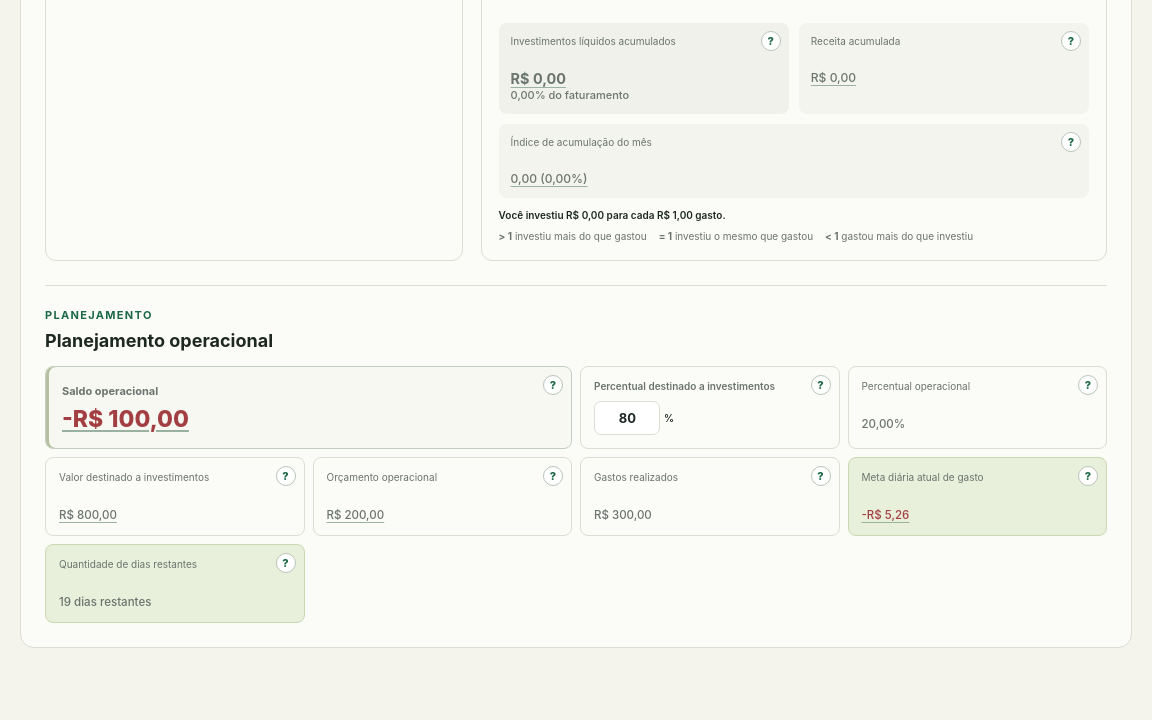
memória de cálculo operacional › preserva meta negativa, explica o déficit e apresenta dias e regra de dia útil
The image size is (1152, 720).
(page scrolled)
Click the button "-R$ 5,26": (885, 515) [858, 504, 913, 526]
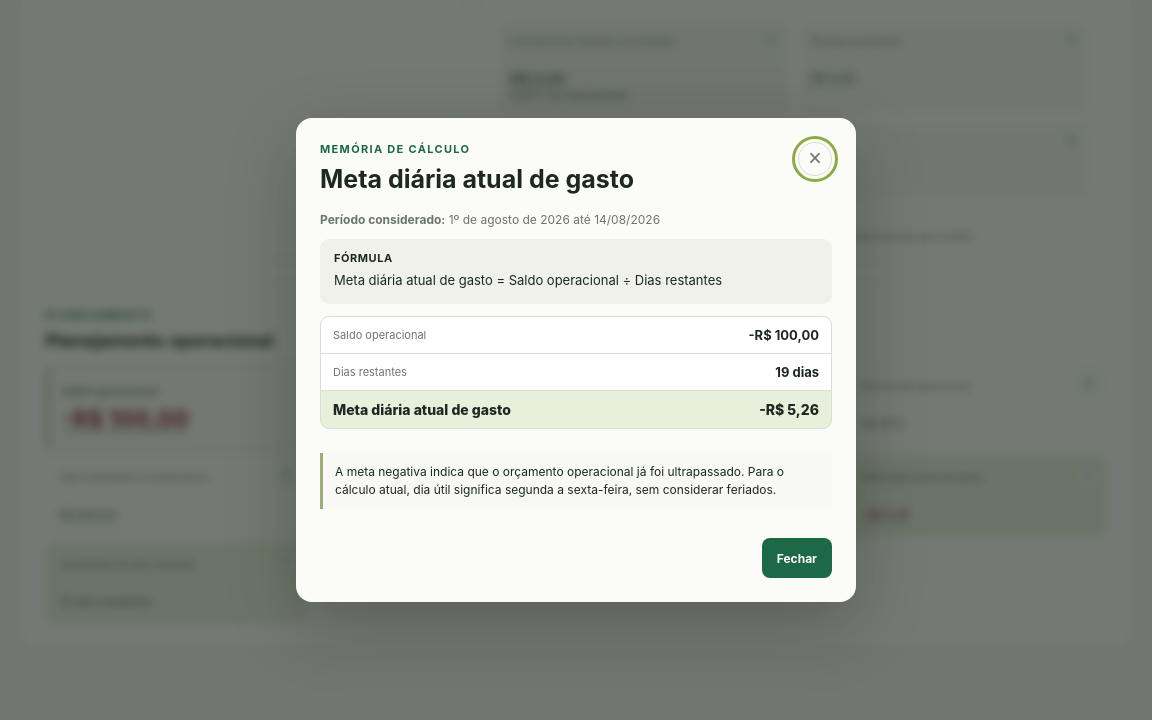
Expected: the dialog shows "orçamento operacional já foi ultrapassado", [335, 464, 784, 497]
Expected: the dialog shows "segunda a sexta-feira, sem considerar feriados", [335, 464, 784, 497]
